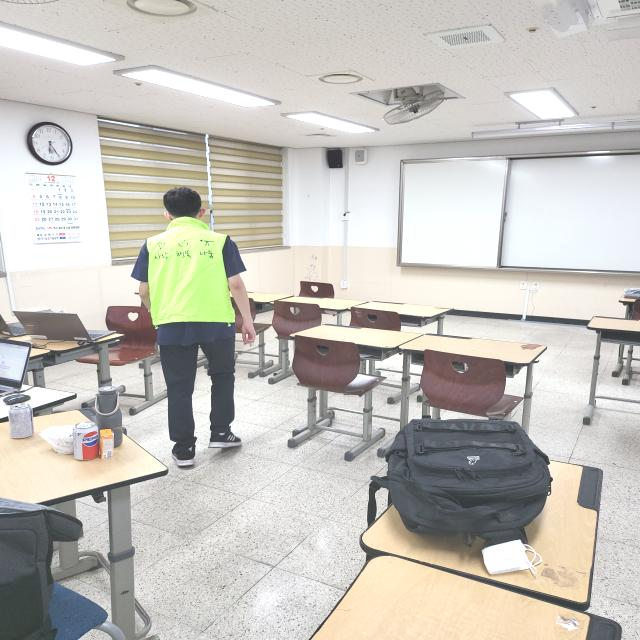weston_spy: (143, 209, 243, 330)
